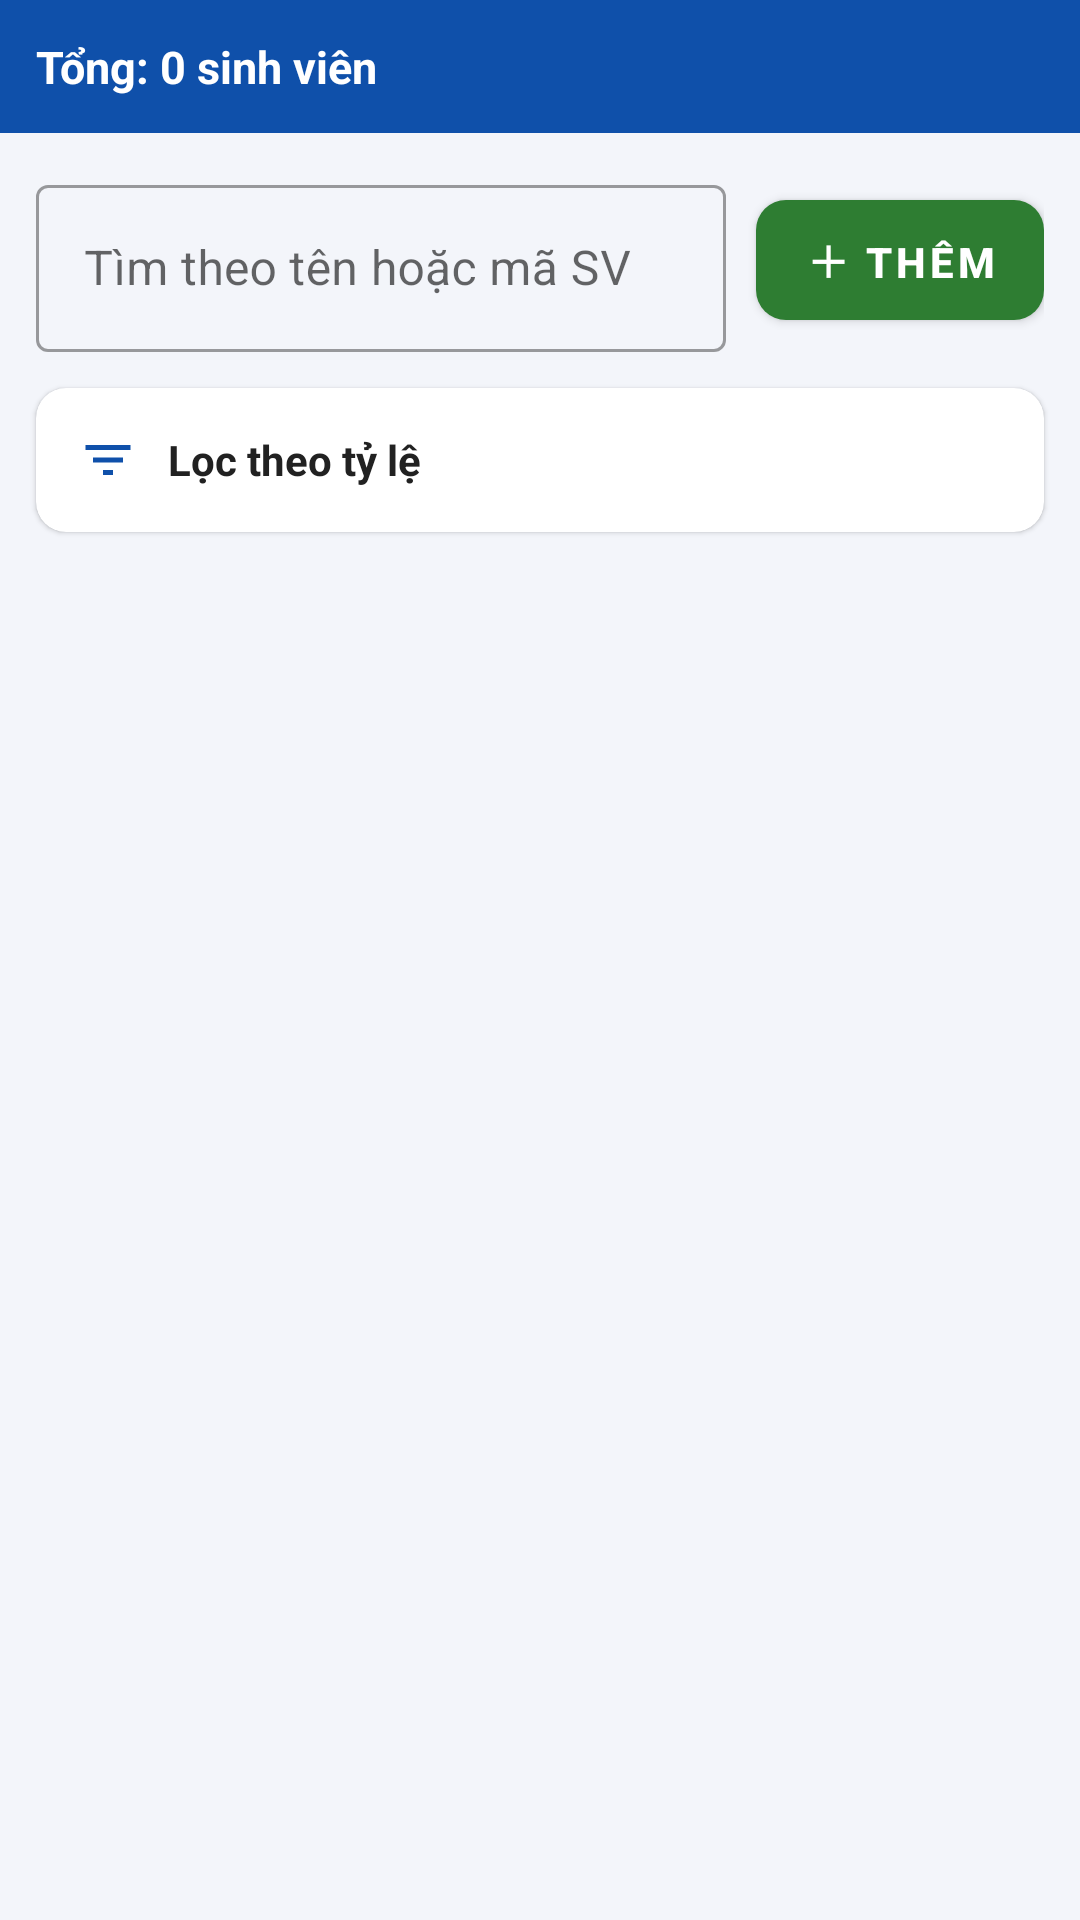

Icon click points for this 1080 x 1920 phone screenshot, format [x,y]:
Bộ lọc: [108,460]
